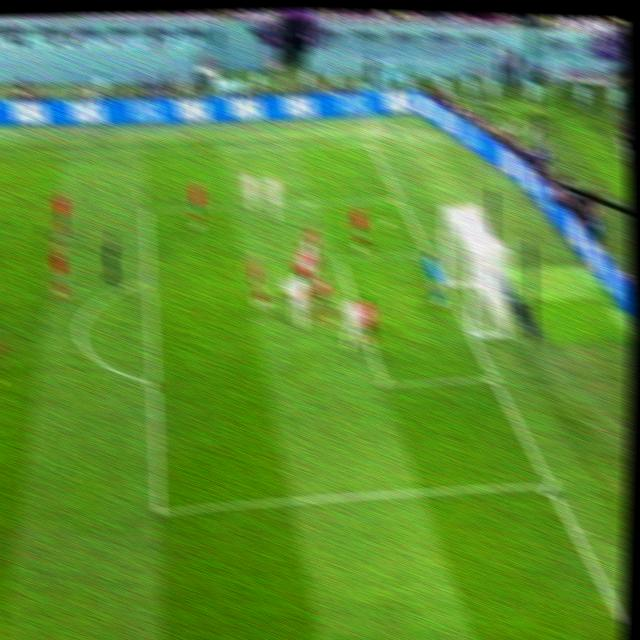bigarea_bottom_inner: (148, 499, 171, 524)
bigarea_bottom_outter: (540, 476, 559, 497)
bigarea_top_inner: (140, 204, 153, 218)
bigarea_top_outter: (391, 192, 404, 206)
bottom_arc_area_intersection: (147, 376, 160, 391)
corner: (361, 139, 377, 150)
smallarea_bottom_inner: (374, 373, 393, 392)
smallarea_bottom_outter: (484, 370, 501, 385)
smallarea_top_inner: (332, 252, 346, 265)
top_arc_area_intersection: (141, 272, 156, 290)
